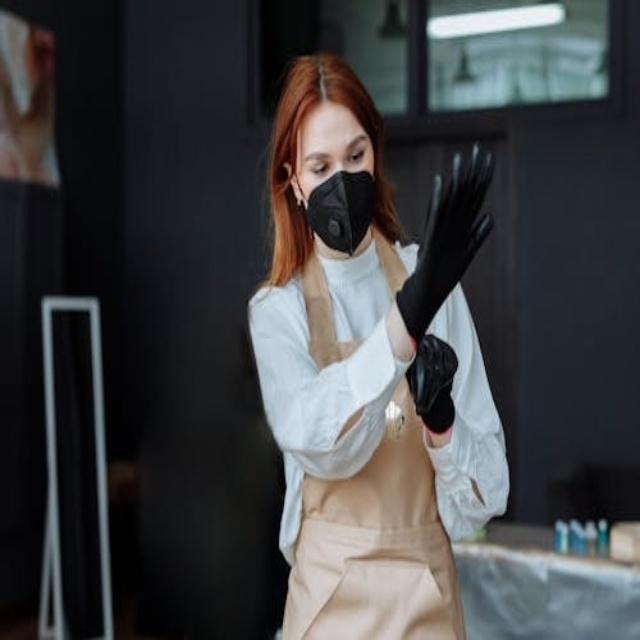Guantes: (394, 140, 496, 348), (405, 333, 459, 433)
Mascara: (302, 169, 376, 255)
Sin_gafas: (297, 136, 371, 169)
